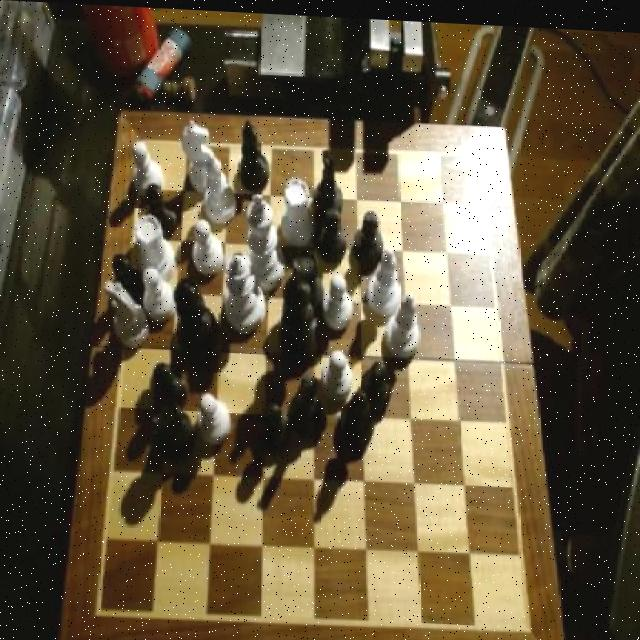bishop: (235, 116, 271, 190), (109, 251, 147, 301)
black-bishop: (280, 268, 320, 362)
black-king: (290, 369, 324, 434), (312, 146, 341, 210)
black-knight: (256, 398, 294, 456), (151, 362, 189, 412), (146, 181, 179, 235), (342, 386, 373, 441), (354, 205, 382, 261), (362, 356, 392, 407), (320, 205, 346, 257)
black-pawn: (174, 275, 220, 356)
black-queen: (157, 399, 197, 458), (290, 247, 324, 308)
black-rook: (383, 285, 422, 355), (366, 243, 401, 312), (203, 153, 238, 221)
white-bishop: (247, 189, 286, 287)
white-king: (105, 280, 149, 347), (182, 117, 216, 187)
white-knight: (142, 263, 178, 318), (192, 214, 224, 275), (323, 270, 354, 327), (131, 138, 163, 190), (200, 391, 232, 443), (322, 344, 352, 396)
white-pawn: (225, 249, 268, 334)
white-queen: (135, 212, 177, 279), (282, 174, 316, 243)
